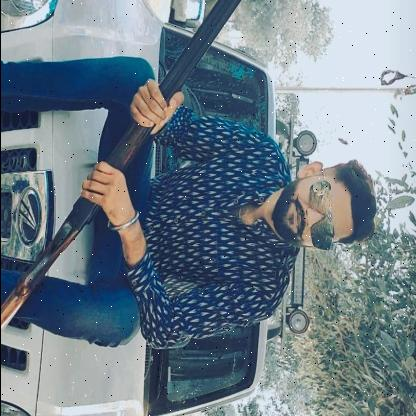rifle: (1, 0, 240, 332)
